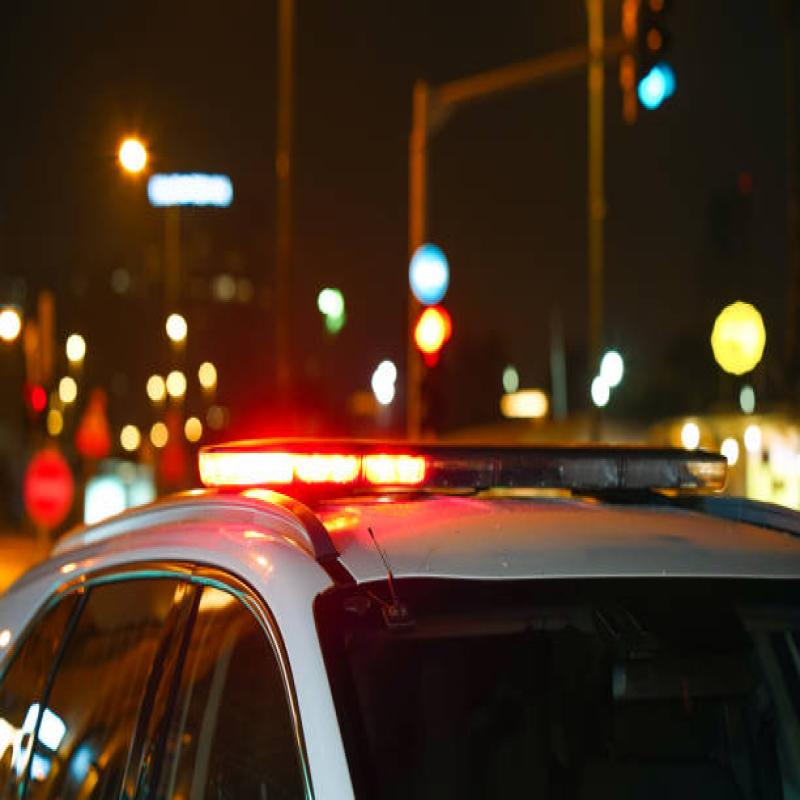AmbulanceSiren: (187, 396, 738, 558)
